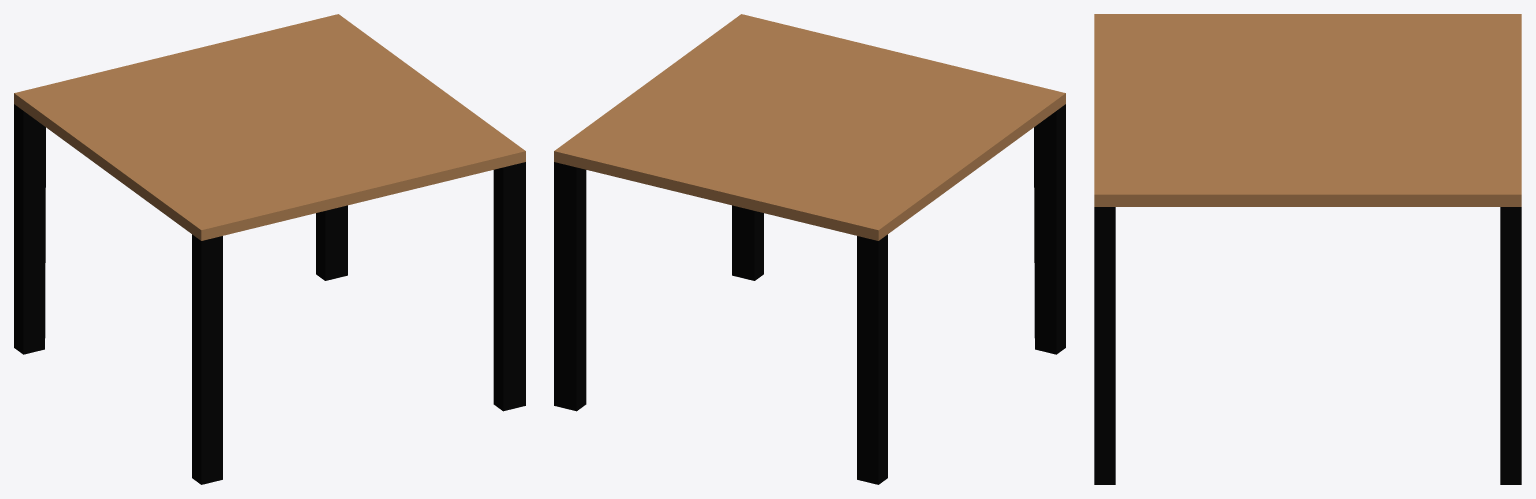
Rendered from Desk1m.fbx.
The picture shows the model from 3 angles, left to right: view 1: azimuth 30°, elevation 25°; view 2: azimuth 150°, elevation 25°; view 3: azimuth 270°, elevation 25°; orthographic projection. The views are drawn at different scales.
Visible parts, largest first — view 1: Desk1m; view 2: Desk1m; view 3: Desk1m.
Boxes of the visible parts, x1,y1,x2,y2 form: Desk1m: [14, 14, 525, 484]; Desk1m: [554, 14, 1065, 484]; Desk1m: [1094, 14, 1521, 484].
Bounding box in the file's own units: 100 × 75 × 100.
